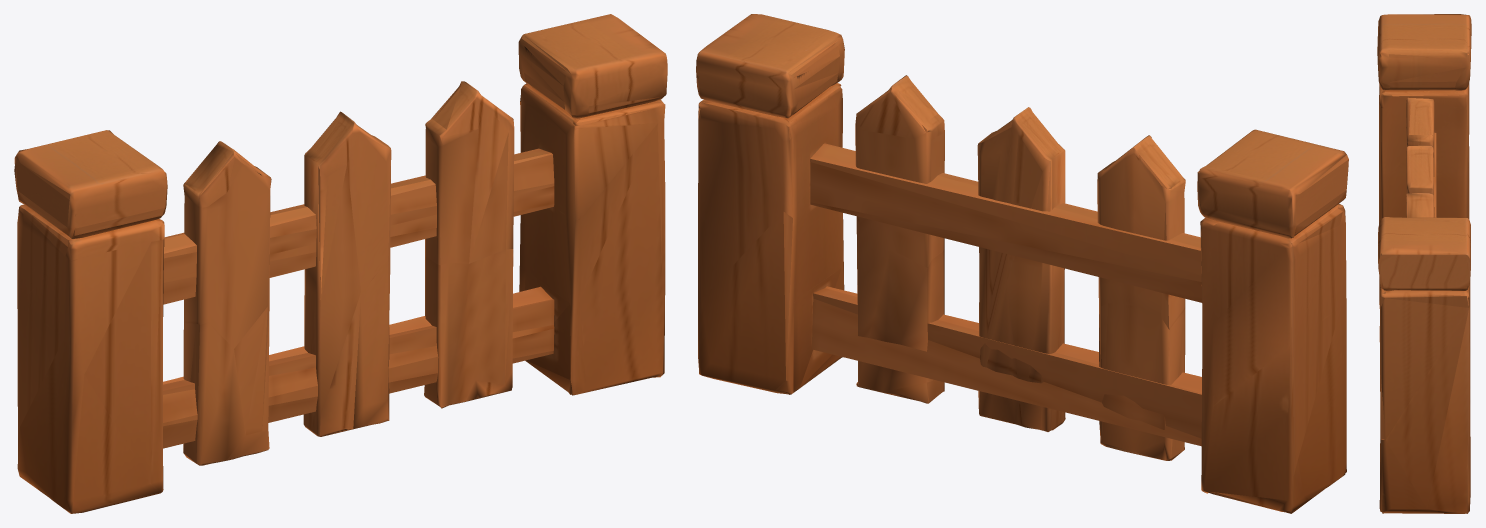
The model's file is fence_low_3.glb.
3 views of the same model, side by side, from view 1: azimuth 30°, elevation 25°; view 2: azimuth 150°, elevation 25°; view 3: azimuth 270°, elevation 25° (orthographic). The views are drawn at different scales.
Visible parts, largest first — view 1: output_unwrapped; view 2: output_unwrapped; view 3: output_unwrapped.
Part boxes in pixels (x1,y1,x2,y2): output_unwrapped: (14, 14, 667, 513); output_unwrapped: (696, 14, 1348, 513); output_unwrapped: (1377, 14, 1471, 513).
Bounding box in the file's own units: 0.9502 × 0.5047 × 0.161.
1 material, 1 textured.
